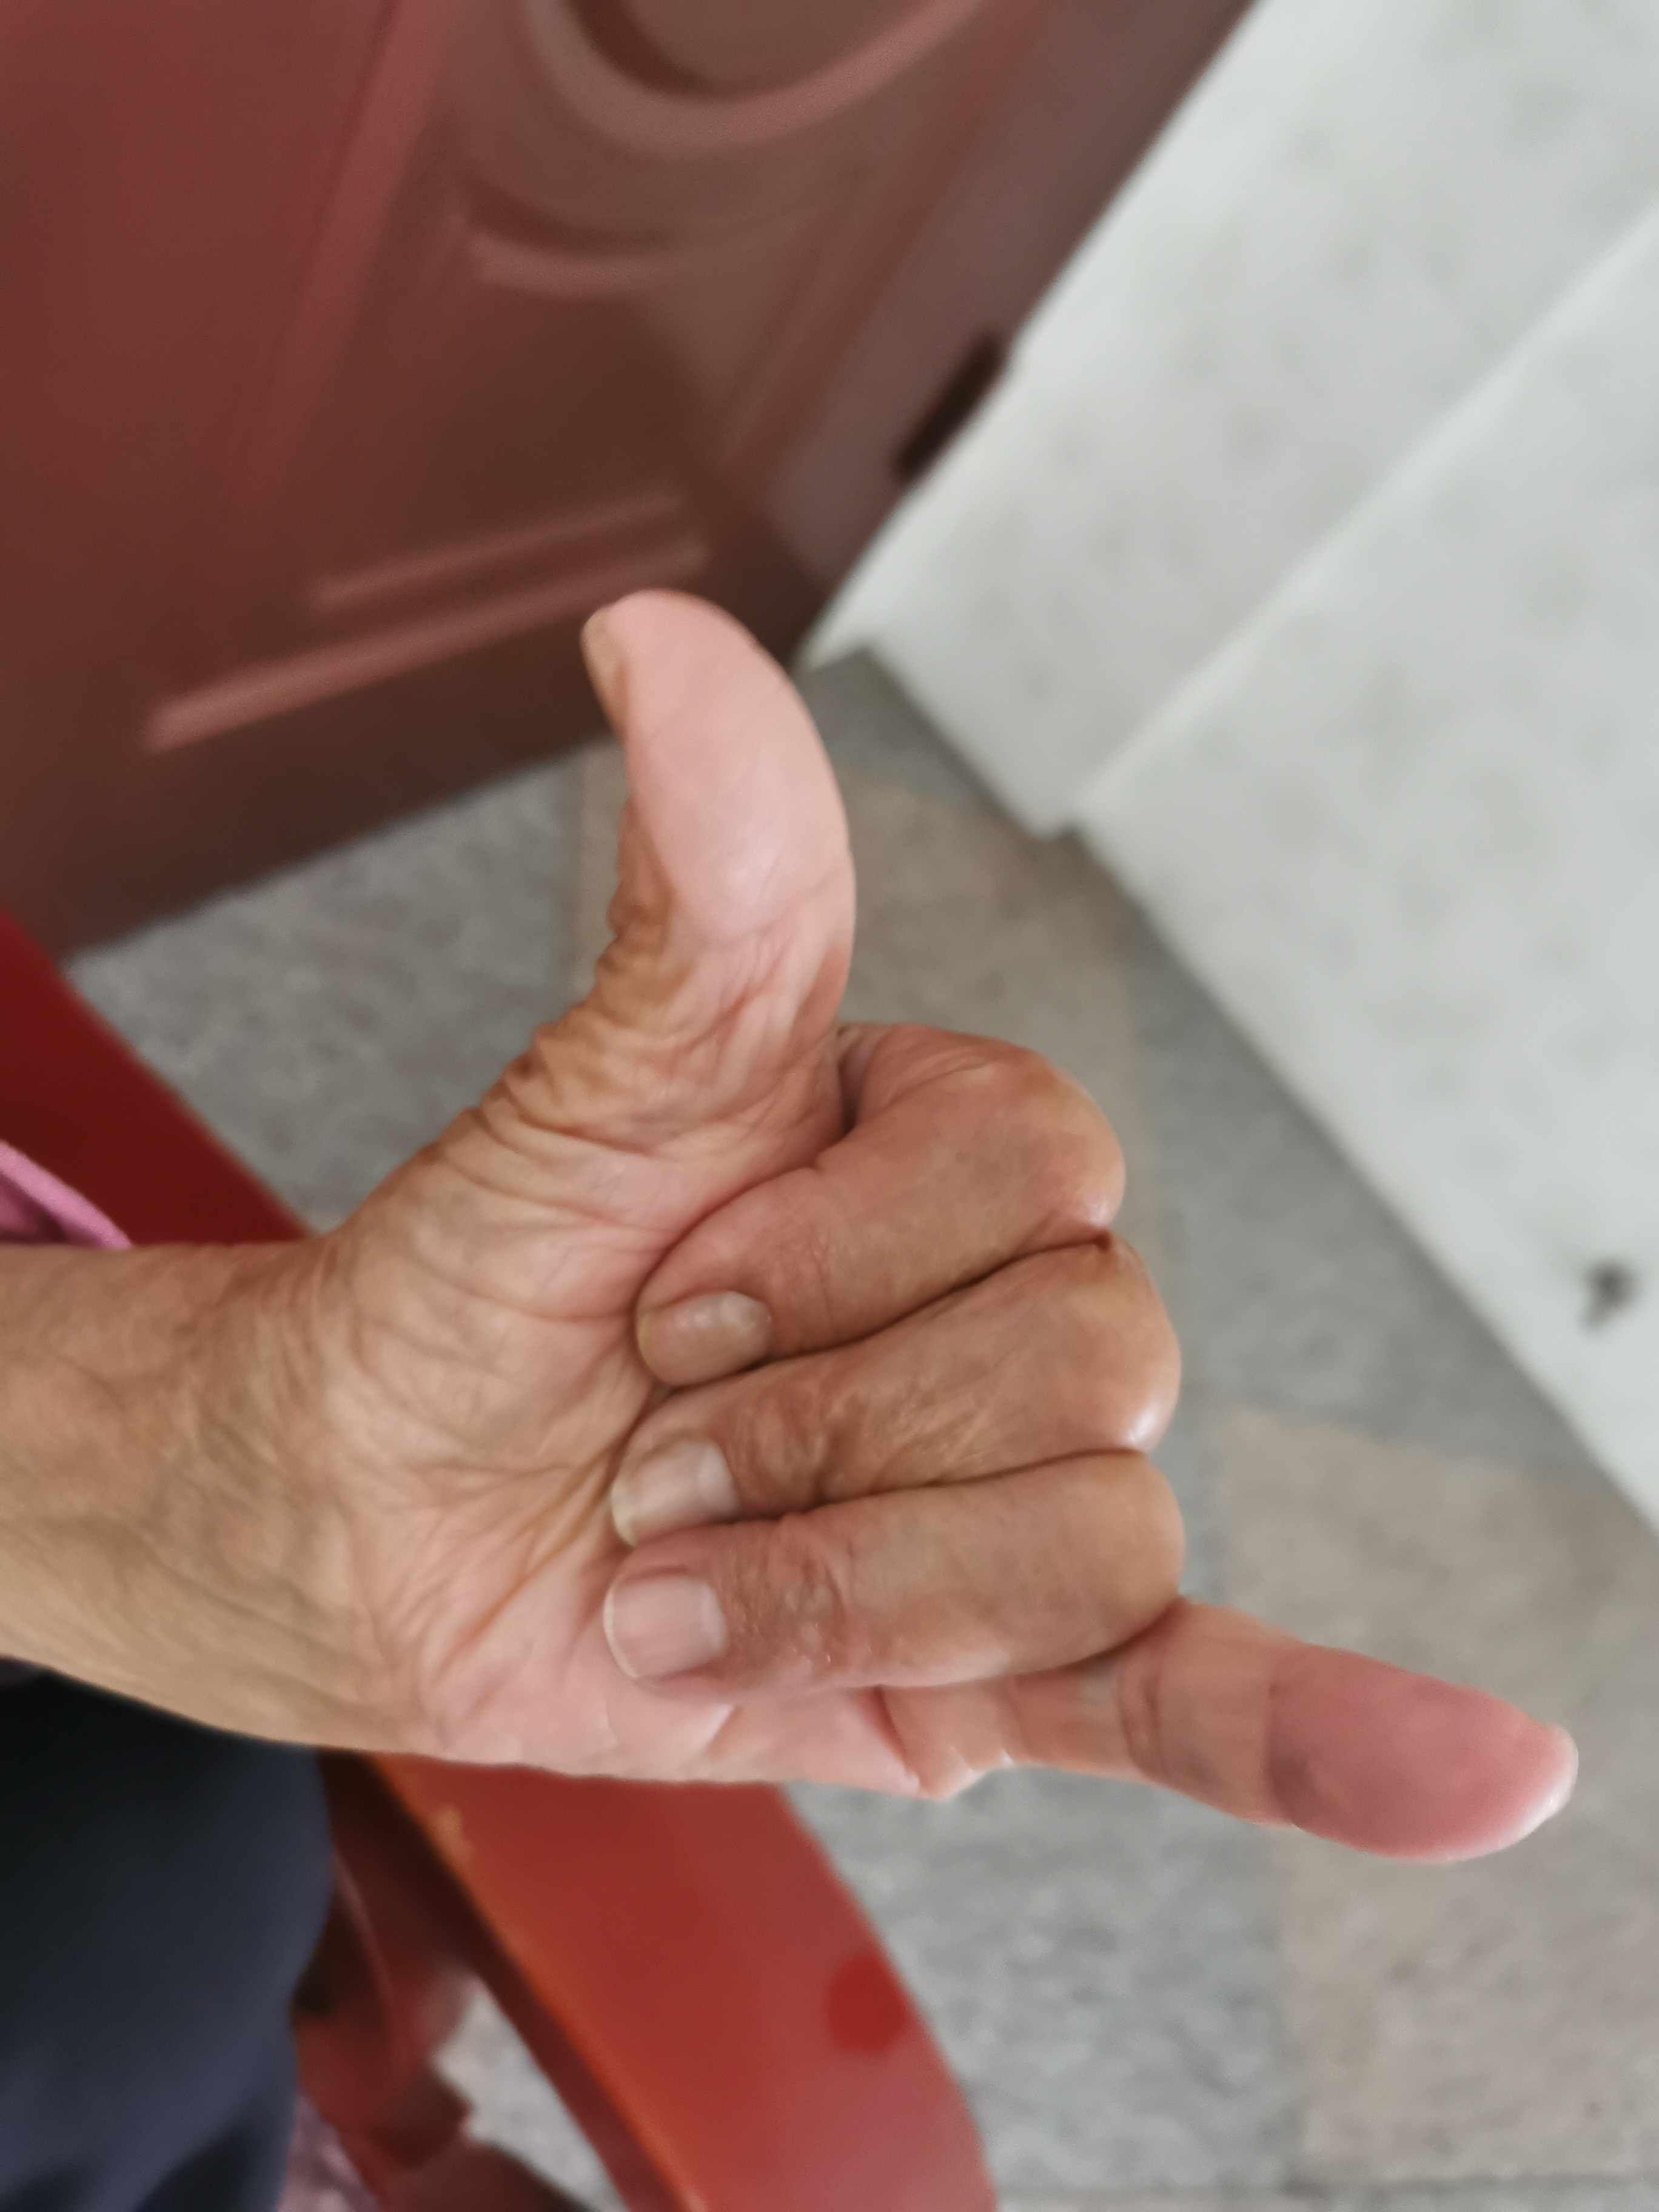clockwise: (288, 568, 1626, 1923)
